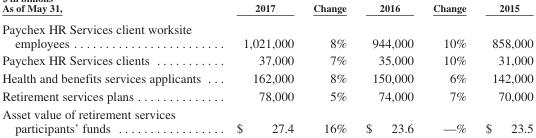table: (1, 1, 532, 134)
table column: (1, 1, 218, 134), (218, 1, 302, 134), (355, 1, 422, 134), (475, 1, 532, 134), (302, 1, 355, 134), (422, 1, 475, 134)
table column header: (1, 1, 532, 17)
table row: (1, 17, 532, 51), (1, 104, 532, 134), (1, 51, 532, 69), (1, 86, 532, 104), (1, 69, 532, 86), (1, 1, 532, 17)
